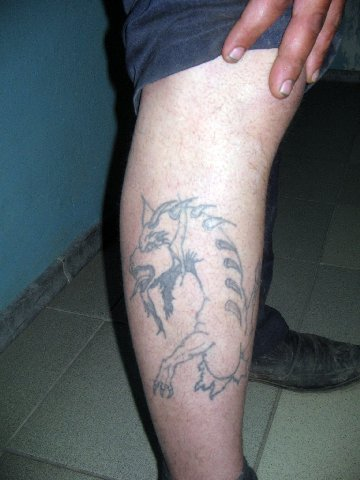tatu6_drakon: (128, 191, 265, 399)
